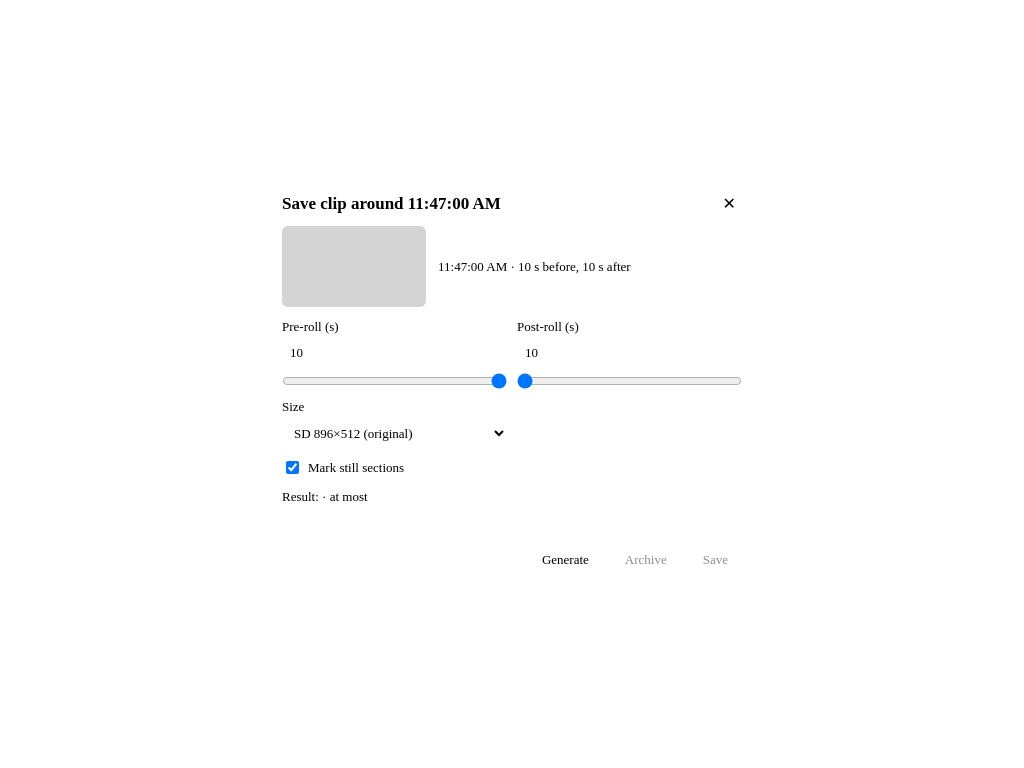
Test: ComposeDialog around a second › shows the proxy's refusal of the real request
Click the button "Generate" at (565, 560), box [528, 545, 603, 575]
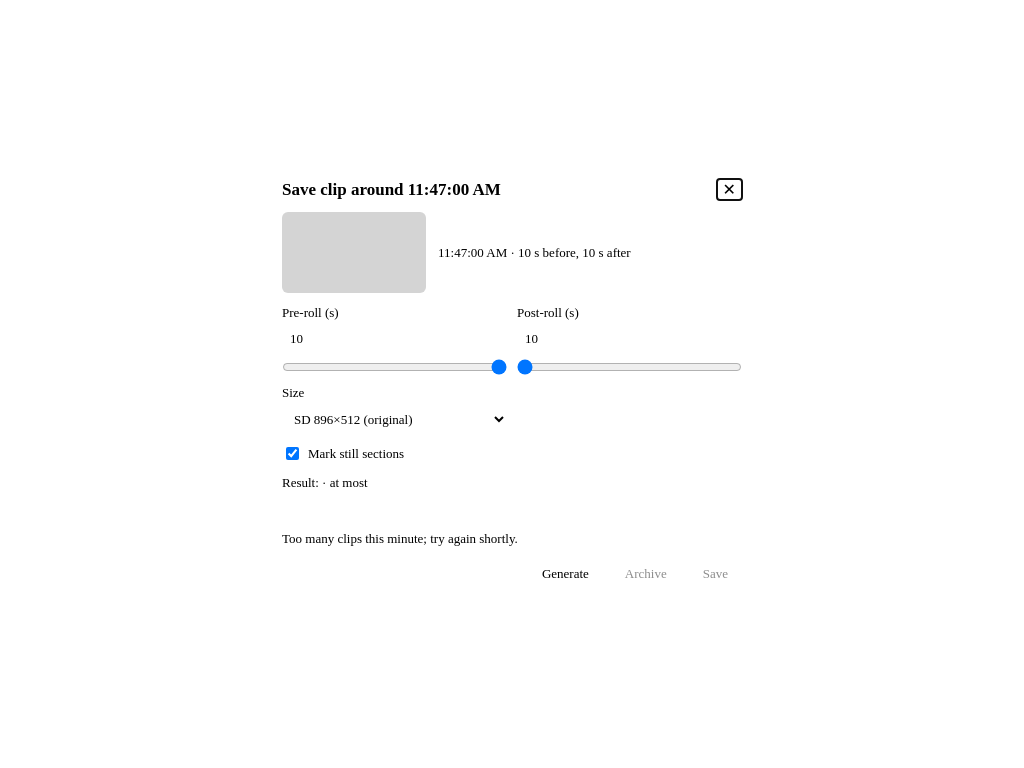
Result: the message "Too many clips this minute; try again shortly." is shown at [282, 531, 518, 546]
